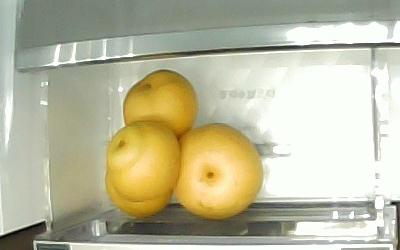pear: (172, 121, 263, 219), (105, 120, 182, 202), (121, 68, 198, 138)
